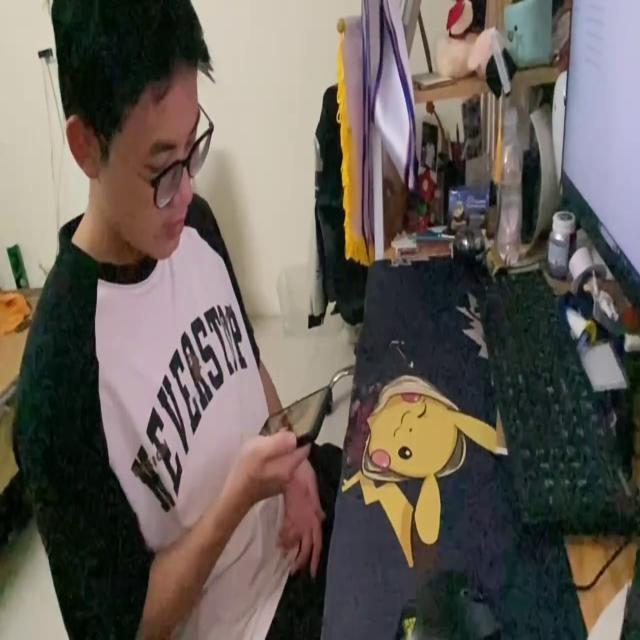laptop: (559, 6, 640, 318)
phone: (251, 380, 330, 450)
student: (19, 6, 337, 640)
